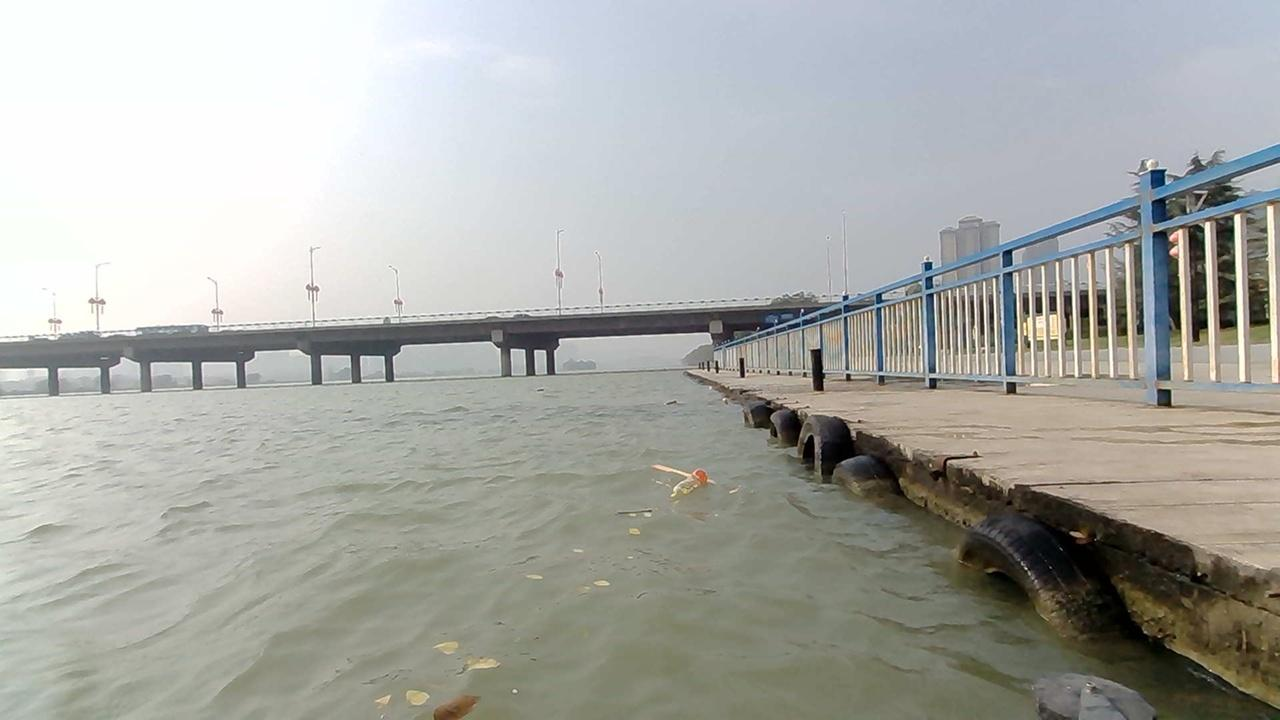bottle: (668, 468, 708, 498), (664, 397, 677, 404), (534, 386, 544, 391), (722, 396, 728, 401)
